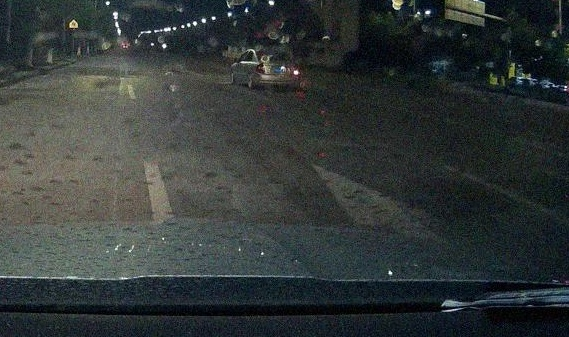L_light: (257, 63, 266, 74)
R_light: (291, 65, 299, 75)
T_light: (268, 52, 275, 54)
night-right: (256, 49, 300, 89)
